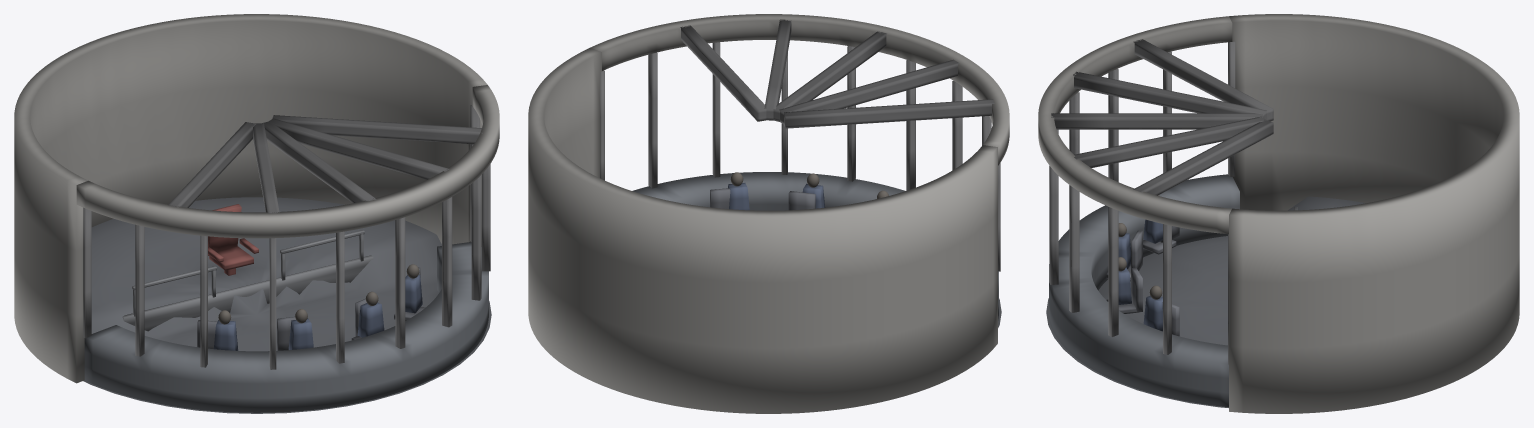
File: bridge.glb
The picture shows the model from 3 angles, left to right: view 1: azimuth 30°, elevation 25°; view 2: azimuth 150°, elevation 25°; view 3: azimuth 270°, elevation 25°; orthographic projection.
Visible parts, largest first — view 1: walls, floor, sill, header, beams, mullions, rail, crew, chair, crew_seats, crew_heads; view 2: walls, beams, header, mullions, sill, crew_seats, crew; view 3: walls, sill, beams, header, floor, mullions, crew, crew_seats.
Boxes of the visible parts, left/top/right/bottom form: walls: left=14, top=14, right=487, bottom=383; floor: left=83, top=197, right=491, bottom=413; sill: left=84, top=242, right=488, bottom=412; header: left=76, top=85, right=499, bottom=238; beams: left=168, top=115, right=484, bottom=213; mullions: left=83, top=105, right=490, bottom=369; rail: left=122, top=230, right=373, bottom=331; crew: left=214, top=275, right=422, bottom=350; chair: left=208, top=204, right=258, bottom=275; crew_seats: left=197, top=267, right=425, bottom=350; crew_heads: left=218, top=264, right=419, bottom=324; walls: left=528, top=47, right=997, bottom=413; beams: left=680, top=19, right=994, bottom=128; header: left=590, top=14, right=1009, bottom=165; mullions: left=600, top=42, right=1000, bottom=271; sill: left=632, top=172, right=998, bottom=320; crew_seats: left=710, top=188, right=815, bottom=210; crew: left=728, top=183, right=825, bottom=210; walls: left=1229, top=14, right=1519, bottom=413; sill: left=1049, top=174, right=1239, bottom=407; beams: left=1051, top=39, right=1273, bottom=195; header: left=1038, top=16, right=1232, bottom=234; floor: left=1046, top=196, right=1365, bottom=407; mullions: left=1049, top=41, right=1235, bottom=364; crew: left=1118, top=219, right=1162, bottom=331; crew_seats: left=1106, top=226, right=1179, bottom=336.
Bounding box in the file's own units: 9.1 × 4.1 × 9.1.
